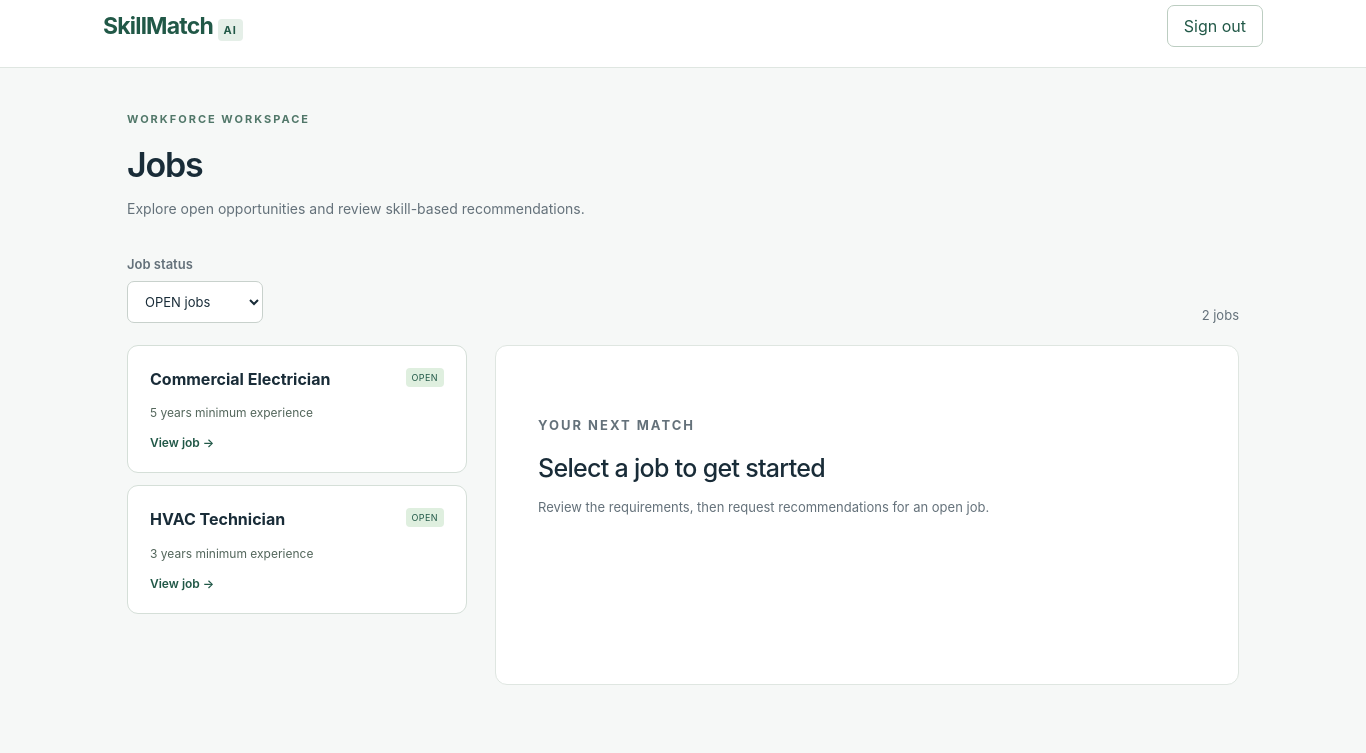
Scenario: viewer recommendation rejection is safe and request can be retried
The width and height of the screenshot is (1366, 753).
Step 1. Click the button "Commercial Electrician" → x=297, y=409, box [127,345,467,473]
(page scrolled)
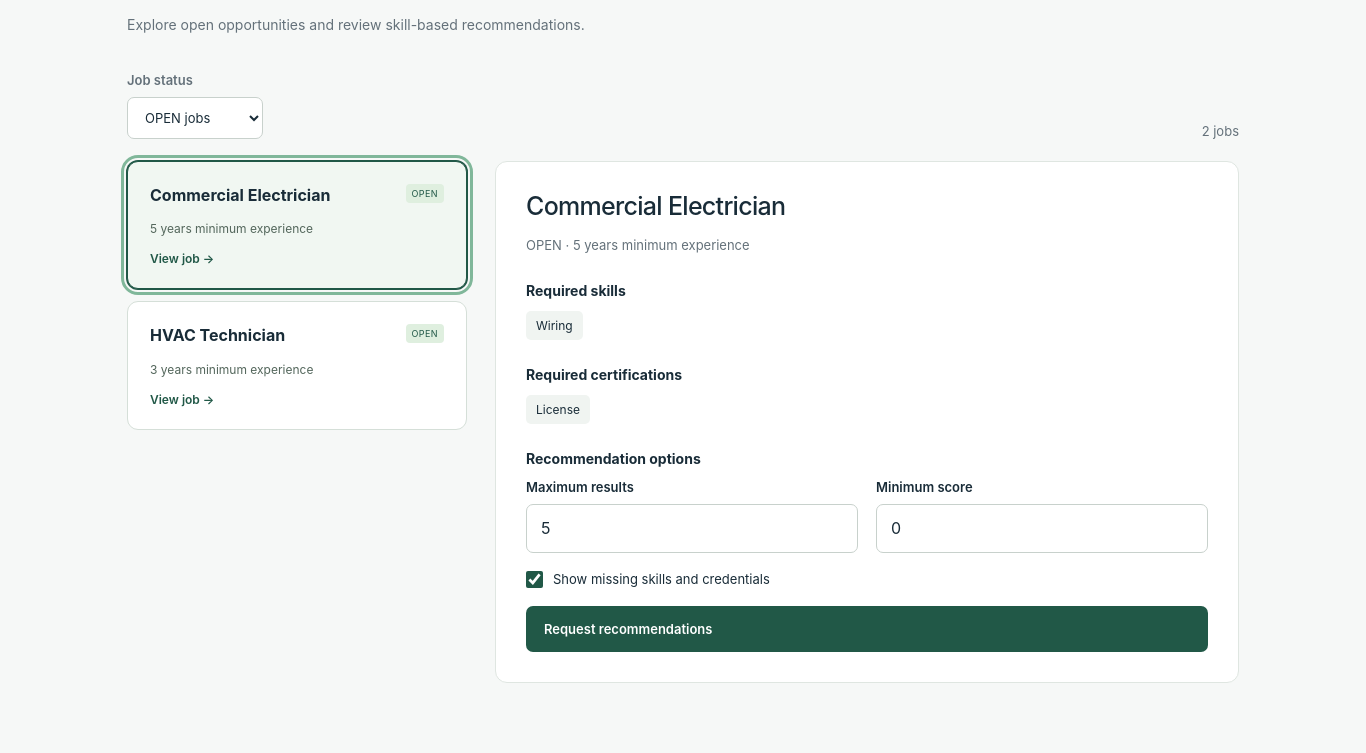
Step 2. Click the button "Request recommendations" → x=628, y=629, box [526,606,1208,652]
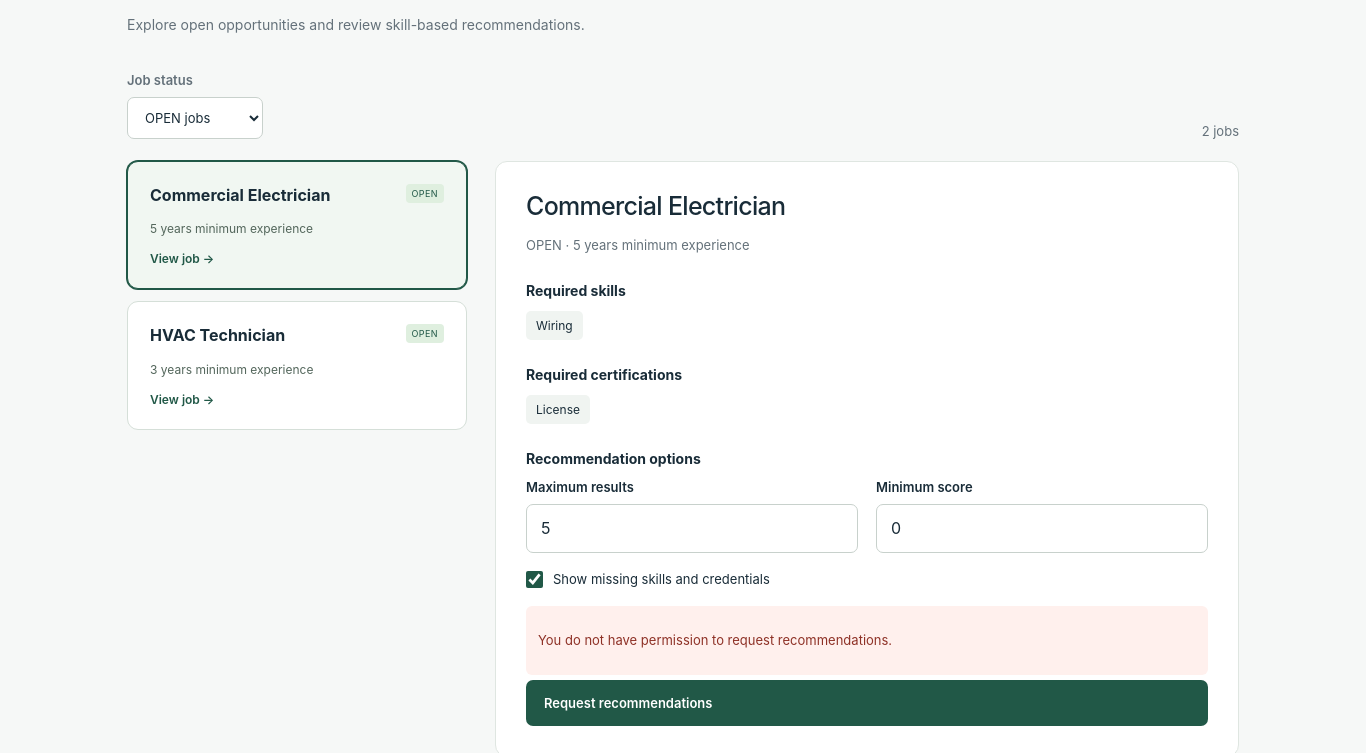
Now the button "Request recommendations" is enabled, box [526,680,1208,726]
Now the message reads "You do not have permission to request recommendations.", box [538,632,892,648]
